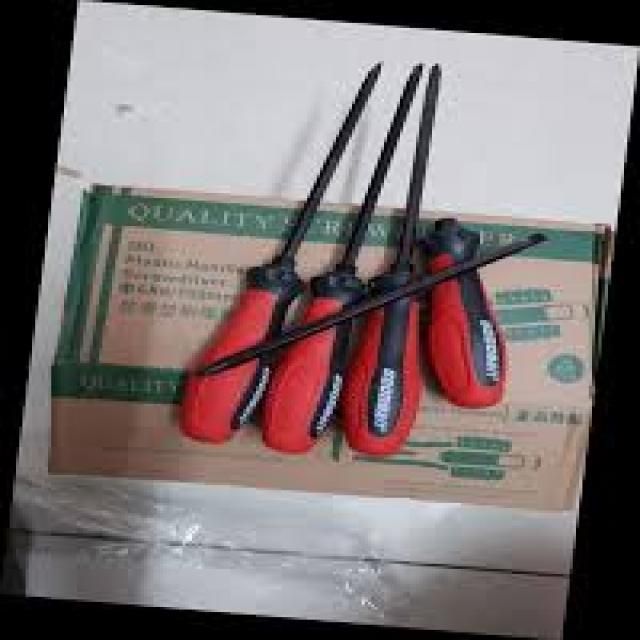screwdriver: (178, 57, 386, 451), (258, 59, 430, 462), (336, 54, 451, 463)
